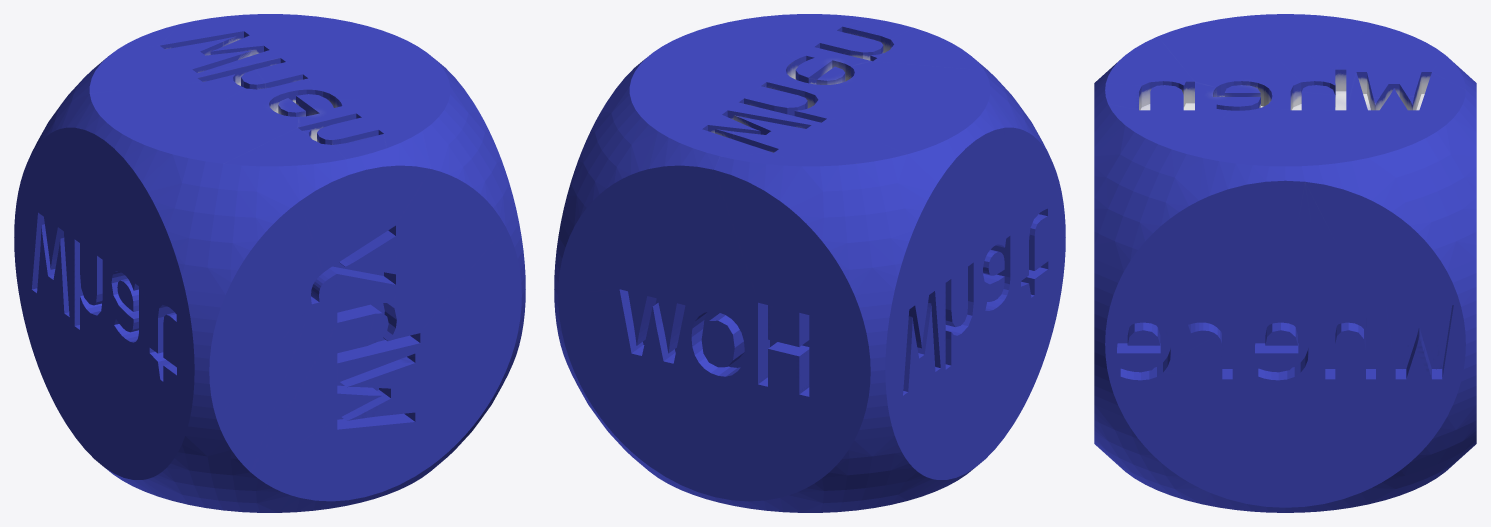
Rendered from Question_cube - Colour Test.glb.
3 renders of one model, left to right at view 1: azimuth 30°, elevation 25°; view 2: azimuth 150°, elevation 25°; view 3: azimuth 270°, elevation 25°, orthographic.
Visible parts, largest first — view 1: node_id5; view 2: node_id5; view 3: node_id5.
Boxes of the visible parts, bbox=[...] form: node_id5: bbox=[14, 14, 525, 512]; node_id5: bbox=[554, 14, 1065, 512]; node_id5: bbox=[1094, 14, 1476, 512].
Bounding box in the file's own units: 0.512 × 0.512 × 0.512.
1 material, 1 textured.
